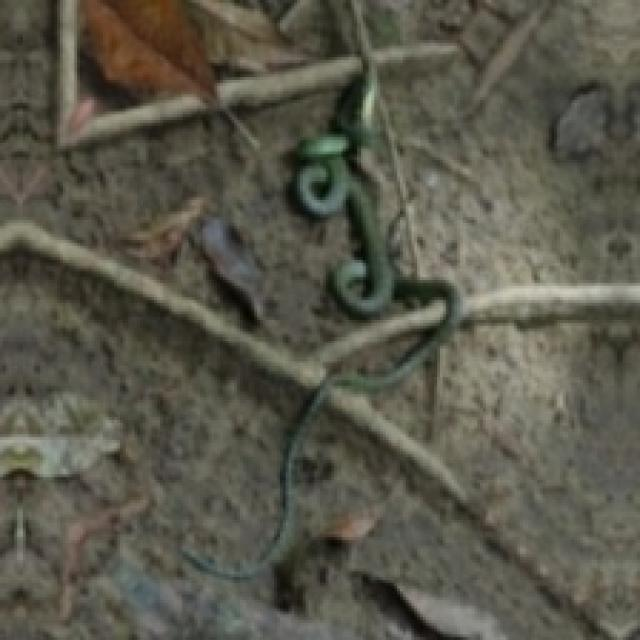paradise tree snake: (186, 60, 463, 574), (371, 317, 637, 637), (360, 77, 551, 291), (300, 420, 460, 574), (280, 540, 337, 609)
